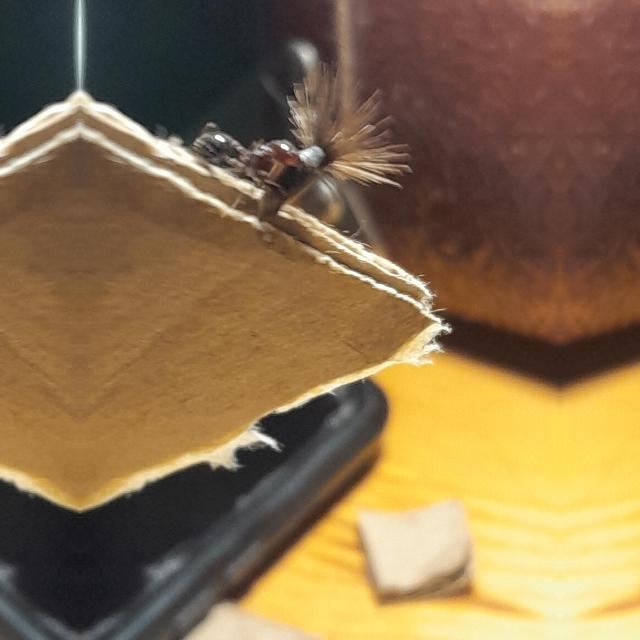Messor: (188, 92, 360, 208)
